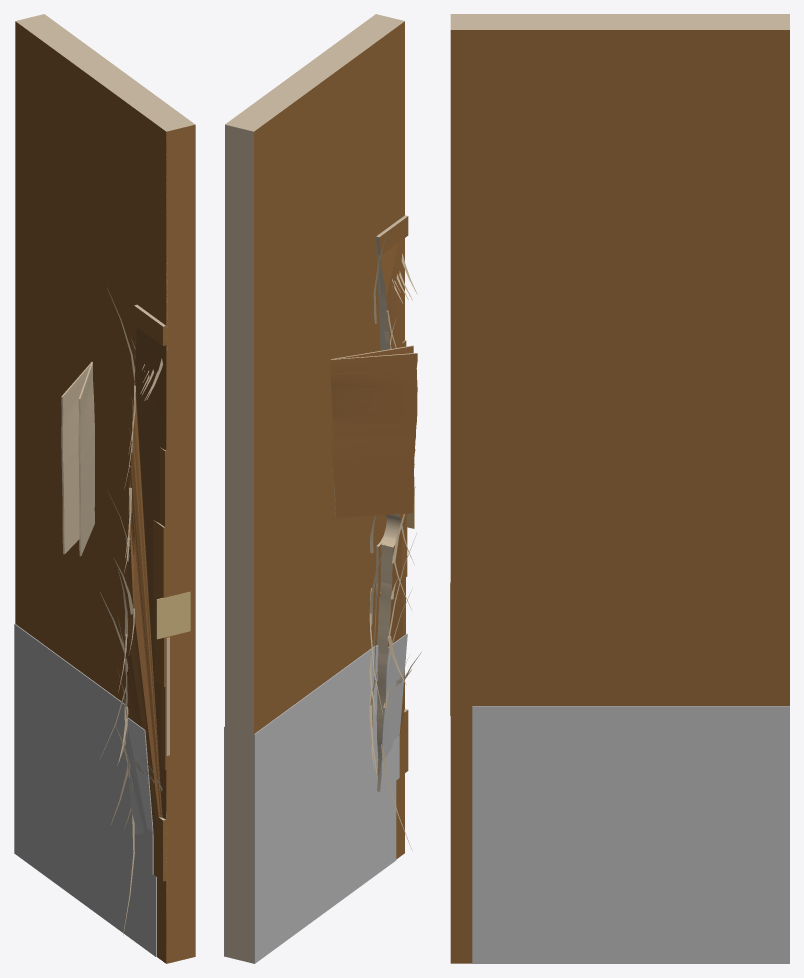
The model's file is Kit_DoorLeafBreak_Veneer_DA_M1.fbx.
3 views of the same model, side by side, from view 1: azimuth 30°, elevation 25°; view 2: azimuth 150°, elevation 25°; view 3: azimuth 270°, elevation 25° (orthographic). The views are drawn at different scales.
Parts seen in each view (by area): view 1: cas_D1_L2, cas_D1_L0, cas_D2_L0, cas_D2_L2, armor_D1_L0, armor_D2_L0, armor_M_L0, cas_TORN_L0, cas_M_L0, cas_D2_L1, armor_D2_L1, armor_D1_L1 (+4 smaller); view 2: cas_D1_L0, cas_D1_L2, cas_D2_L0, armor_D2_L0, armor_D1_L0, cas_TORN_L1, armor_D2_L1, cas_D2_L2, armor_M_L0, cas_TORN_L0, armor_D1_L1, cas_D2_L1 (+4 smaller); view 3: cas_D1_L0, cas_D1_L2, armor_D1_L0, cas_D2_L0, cas_D2_L2, cas_TORN_L0, cas_M_L0, armor_D2_L0, cas_TORN_L2, armor_D1_L1, armor_D2_L1, cas_D2_L1 (+4 smaller).
Part boxes in pixels (x1,y1,x2,y2): cas_D1_L2: (15, 22, 195, 963); cas_D1_L0: (15, 14, 195, 963); cas_D2_L0: (15, 14, 195, 963); cas_D2_L2: (15, 22, 195, 962); armor_D1_L0: (14, 624, 156, 956); armor_D2_L0: (14, 625, 156, 956); armor_M_L0: (14, 630, 156, 956); cas_TORN_L0: (16, 25, 195, 962); cas_M_L0: (15, 45, 195, 962); cas_D2_L1: (48, 287, 162, 833); armor_D2_L1: (14, 625, 152, 858); armor_D1_L1: (14, 624, 99, 852); cas_D1_L0: (225, 14, 407, 963); cas_D1_L2: (254, 21, 404, 858); cas_D2_L0: (225, 14, 417, 963); armor_D2_L0: (255, 633, 407, 963); armor_D1_L0: (224, 647, 396, 963); cas_TORN_L1: (330, 235, 417, 791); armor_D2_L1: (255, 635, 407, 959); cas_D2_L2: (254, 133, 385, 775); armor_M_L0: (255, 646, 395, 958); cas_TORN_L0: (255, 28, 421, 853); armor_D1_L1: (255, 645, 378, 957); cas_D2_L1: (330, 234, 413, 775); cas_D1_L0: (450, 14, 789, 963); cas_D1_L2: (450, 30, 789, 963); armor_D1_L0: (472, 706, 789, 963); cas_D2_L0: (450, 14, 789, 962); cas_D2_L2: (450, 247, 687, 869); cas_TORN_L0: (450, 32, 789, 959); cas_M_L0: (450, 30, 789, 962); armor_D2_L0: (472, 706, 789, 963); cas_TORN_L2: (450, 30, 782, 963); armor_D1_L1: (522, 706, 789, 963); armor_D2_L1: (517, 706, 789, 962); cas_D2_L1: (515, 279, 687, 705).
Size of the model in its own units: 0.1342 by 1.2 by 0.3958.
